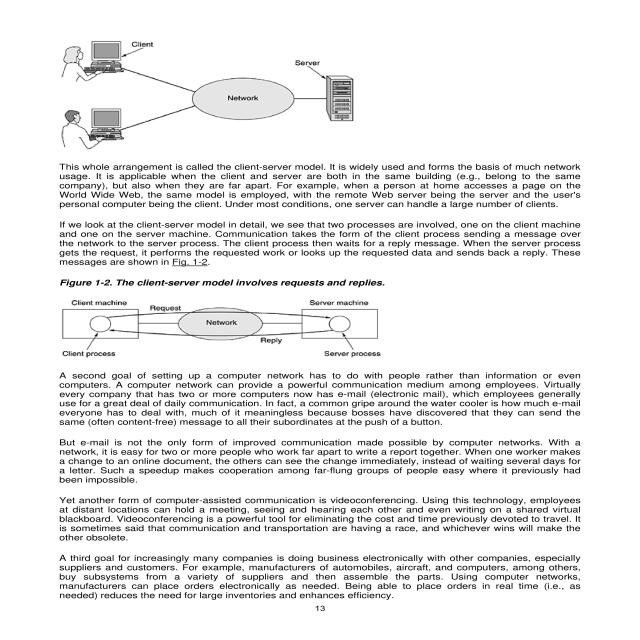diagram: (48, 16, 414, 156), (58, 273, 405, 357)
